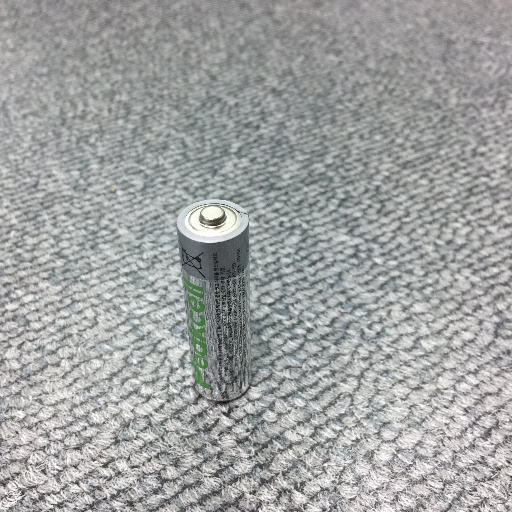Battery_0: (169, 191, 265, 406)
